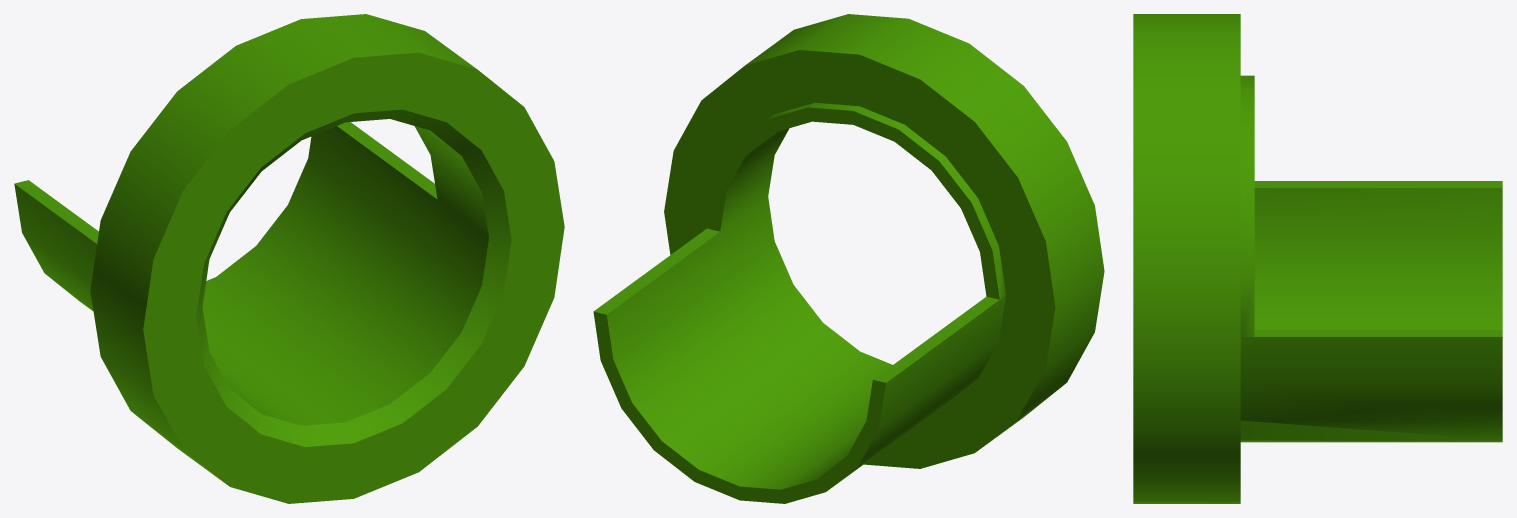
File: PipeEntrance.fbx
3 views of the same model, side by side, from view 1: azimuth 30°, elevation 25°; view 2: azimuth 150°, elevation 25°; view 3: azimuth 270°, elevation 25° (orthographic). The views are drawn at different scales.
Parts seen in each view (by area): view 1: Entrance; view 2: Entrance; view 3: Entrance.
Boxes of the visible parts, x1=… form: Entrance: x1=14, y1=14, x2=564, y2=503; Entrance: x1=593, y1=14, x2=1104, y2=503; Entrance: x1=1133, y1=14, x2=1502, y2=503.
Bounding box in the file's own units: 2.94 × 2.94 × 2.2.
